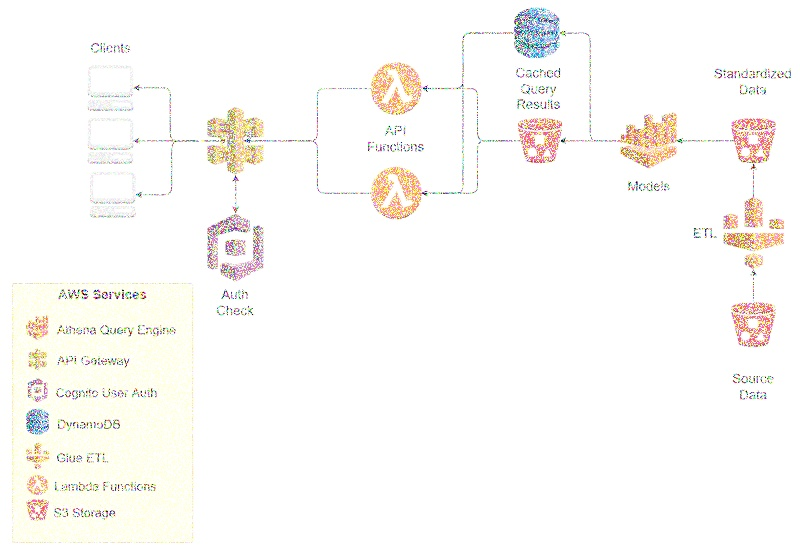API-Gateway: (198, 102, 274, 176), (23, 346, 51, 374)
Athena: (613, 101, 687, 174), (20, 306, 54, 345)
Cognito: (203, 210, 269, 283), (22, 375, 53, 405)
Dynamo DB: (511, 1, 573, 66), (22, 405, 53, 440)
Glue: (718, 192, 790, 271), (23, 440, 53, 471)
Lambda: (371, 51, 429, 123), (366, 161, 428, 222), (24, 472, 53, 498)
S3: (725, 102, 786, 173), (721, 292, 780, 351), (515, 110, 567, 166), (22, 496, 53, 523)
Web Clients: (78, 111, 144, 167), (82, 54, 141, 115), (82, 168, 145, 224)
